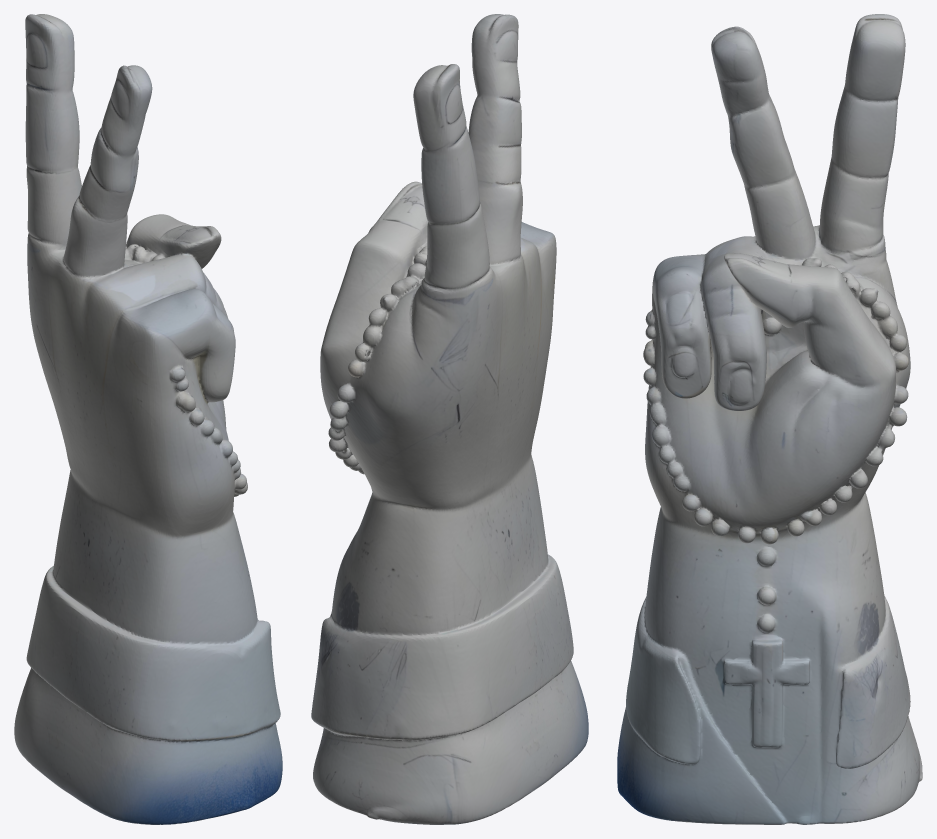
The model's file is collectible_6_spomenik_pobjede.glb.
The picture shows the model from 3 angles, left to right: view 1: azimuth 30°, elevation 25°; view 2: azimuth 150°, elevation 25°; view 3: azimuth 270°, elevation 25°; orthographic projection. The views are drawn at different scales.
Parts seen in each view (by area): view 1: tripo_node_6f9b6b9d-696b-4661-901f-4d5e6b602b15; view 2: tripo_node_6f9b6b9d-696b-4661-901f-4d5e6b602b15; view 3: tripo_node_6f9b6b9d-696b-4661-901f-4d5e6b602b15.
Boxes of the visible parts, bbox=[...] form: tripo_node_6f9b6b9d-696b-4661-901f-4d5e6b602b15: bbox=[14, 14, 282, 824]; tripo_node_6f9b6b9d-696b-4661-901f-4d5e6b602b15: bbox=[311, 14, 588, 824]; tripo_node_6f9b6b9d-696b-4661-901f-4d5e6b602b15: bbox=[617, 14, 922, 824].
Size of the model in its own units: 0.2689 by 1 by 0.3754.
1 material, 1 textured.
